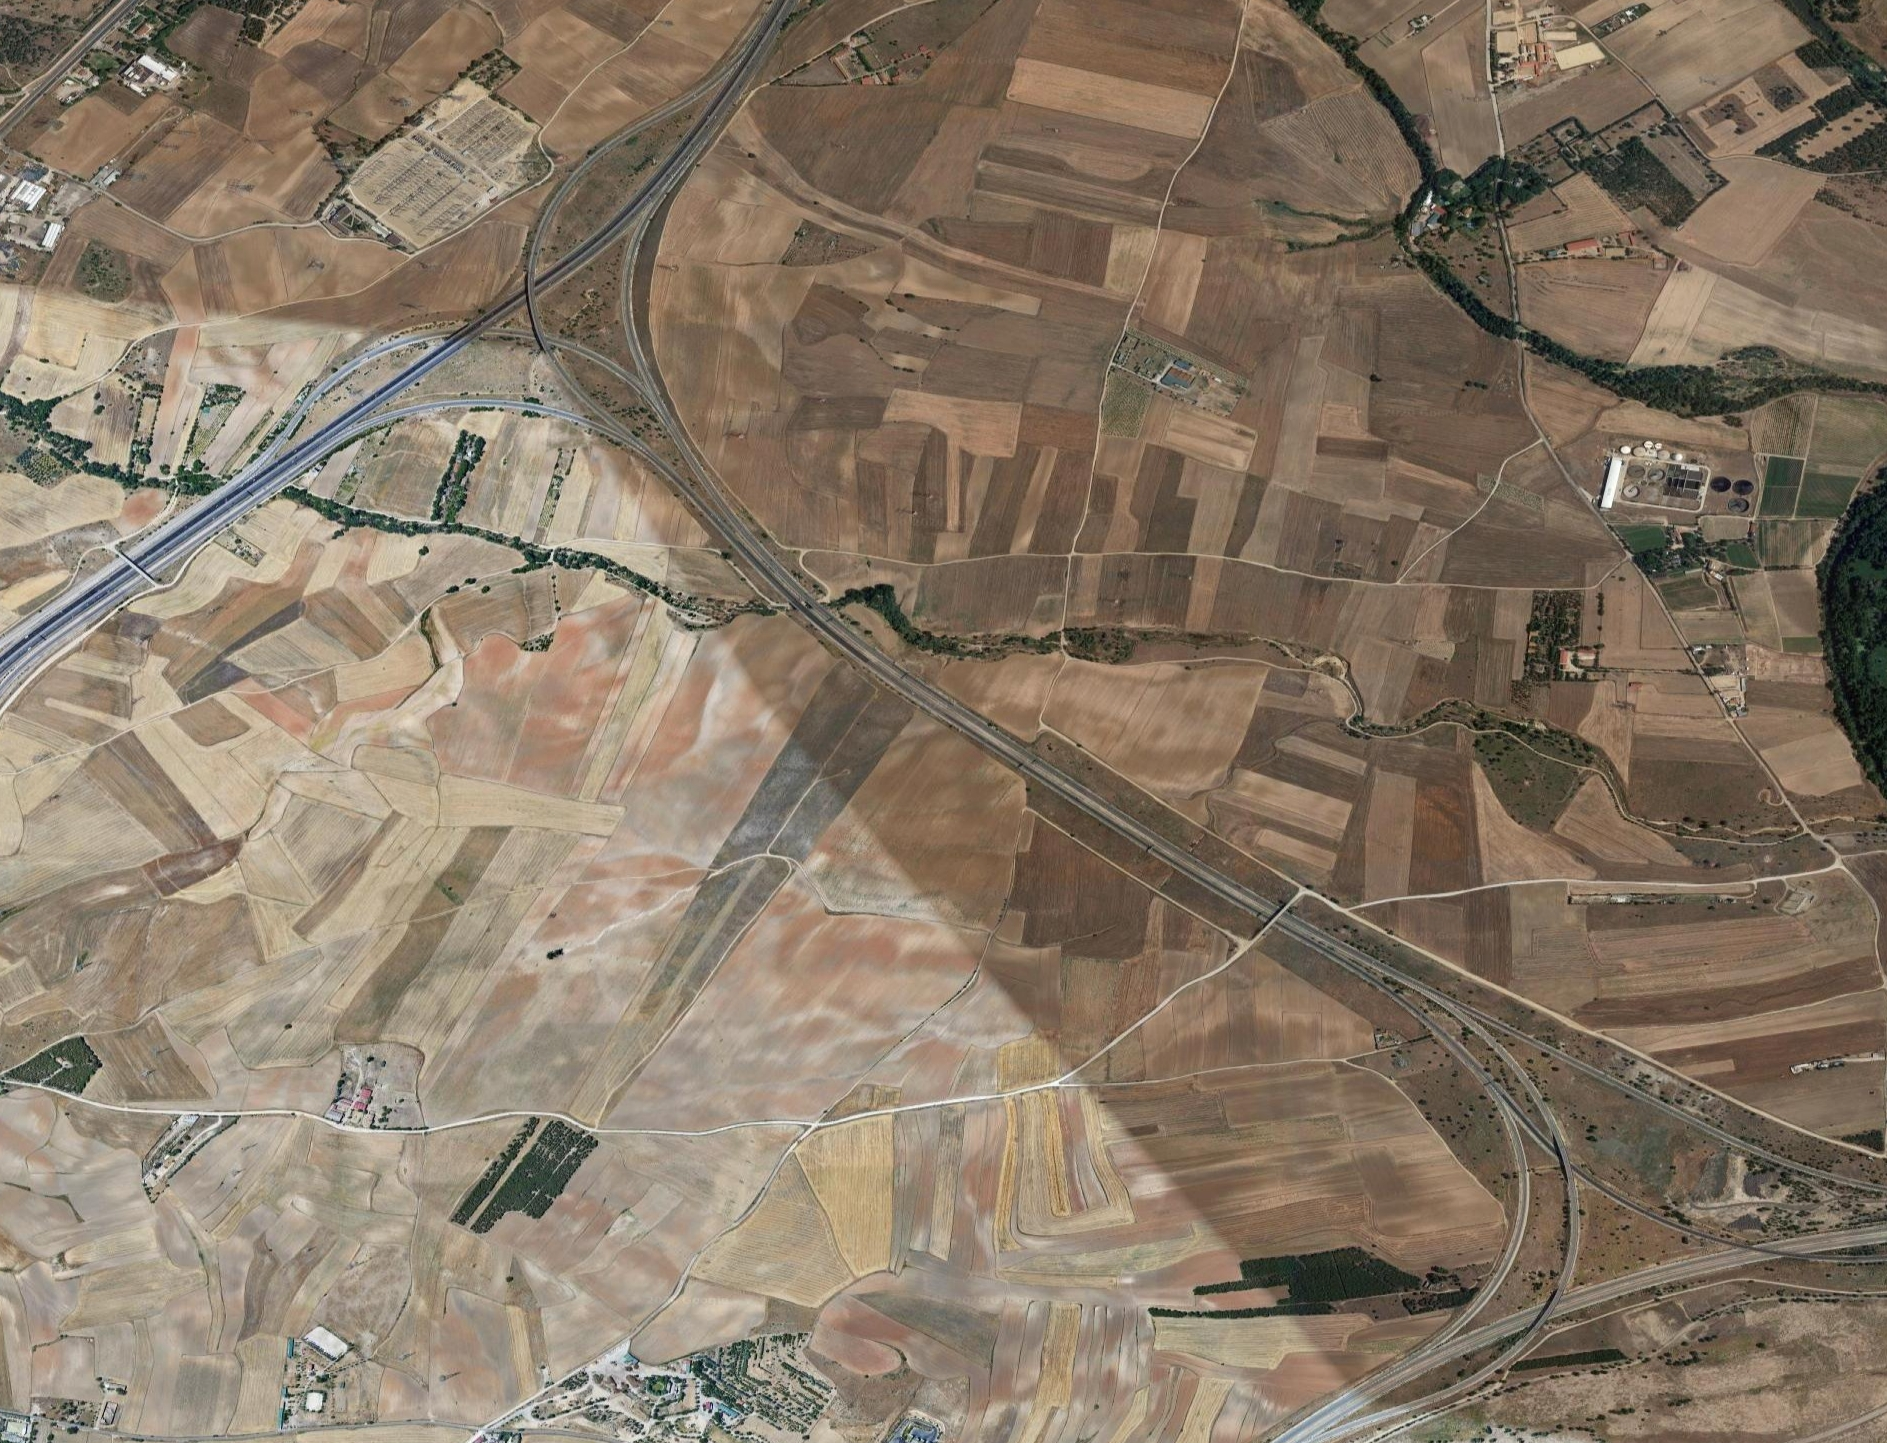motorway: (1159, 797, 1887, 1443), (626, 423, 1181, 870), (2, 318, 555, 715), (433, 2, 814, 443)
